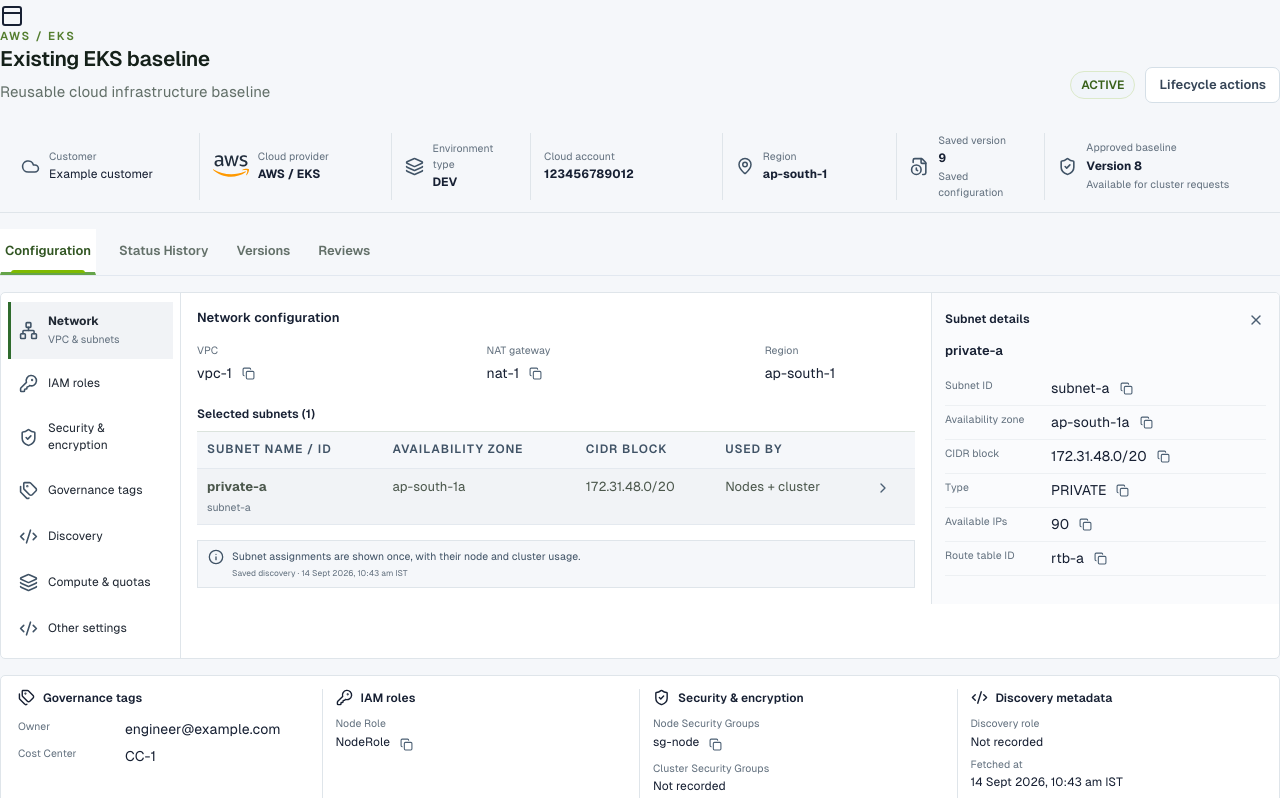
Test: Existing environment explorer › loads lifecycle history through the existing paginated endpoint and resets the page on tab change
expect the heading "Network configuration" is shown: met, box [197,310,340,325]
What coordinates should you click on to do the following:
click the button "Status History"
I would click on:
 (164, 252)
Its box is [114,229,213,275].
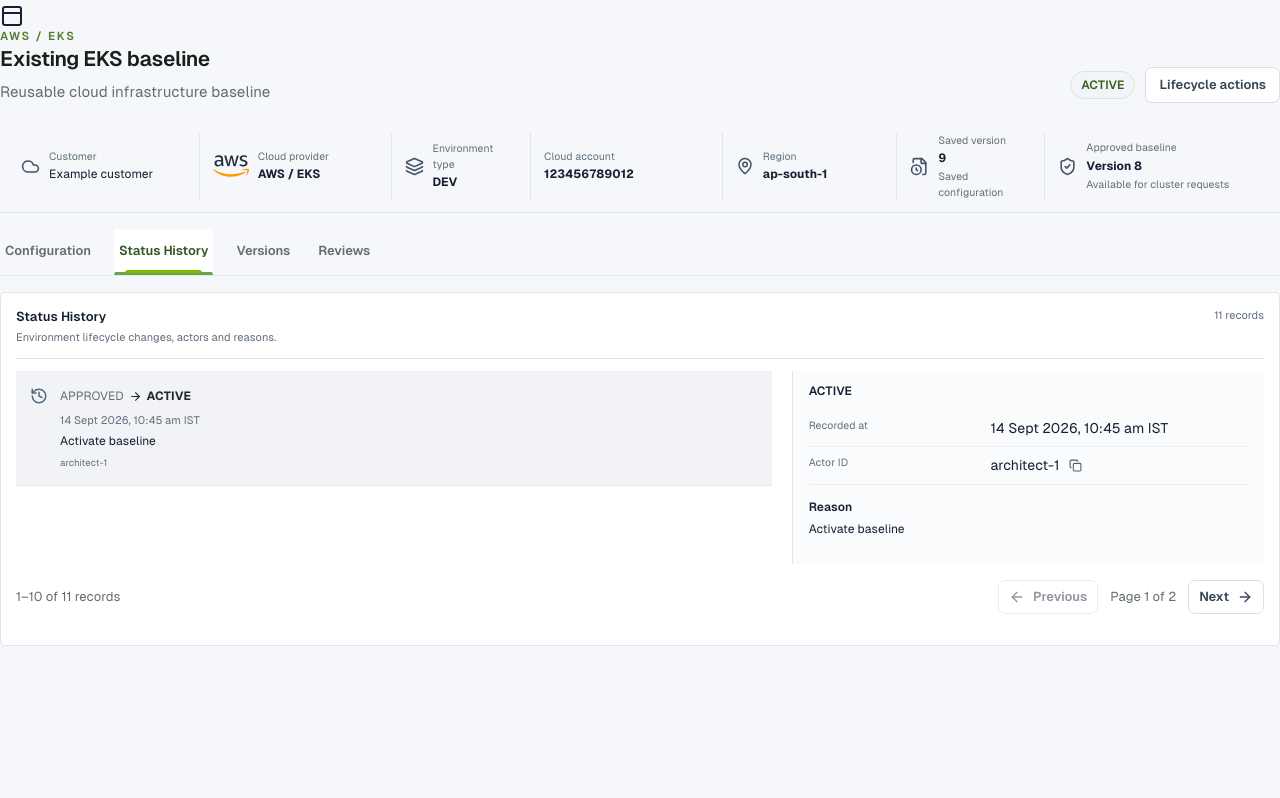
expect the list named "Status changes" is shown: met, box [16,371,772,486]
expect the text "Activate baseline" below "Actor ID" is shown: met, box [809,522,904,536]
What coordinates should you click on to do the following:
click the button with aria-label "Next page"
I would click on:
 (1226, 598)
Its box is [1188,580,1264,614].
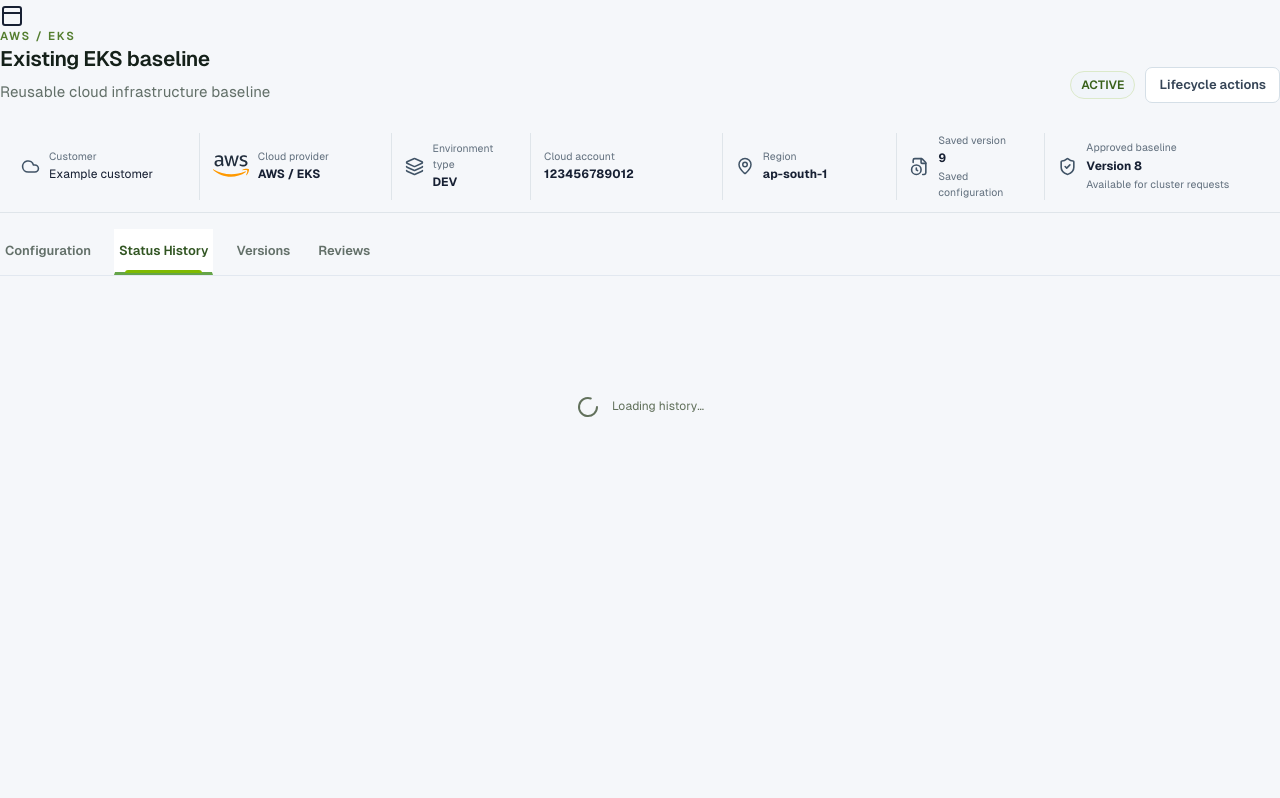
What coordinates should you click on to do the following:
click the button "Reviews"
I would click on:
 (344, 252)
Its box is [313,229,375,275].
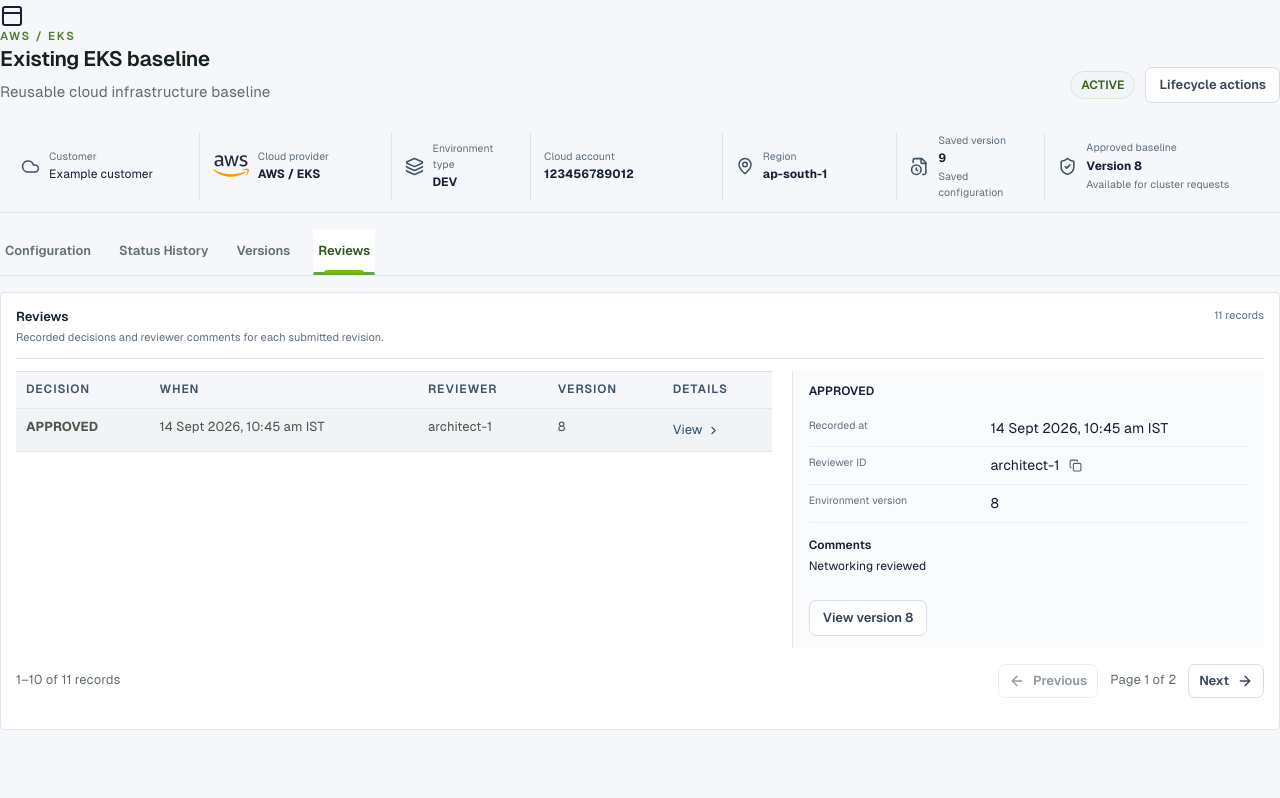
expect the text "Networking reviewed" is shown: met, box [809,559,926,573]
What coordinates should you click on to do the following:
click the button "View version 8"
I would click on:
 (868, 618)
Its box is [809,600,927,636].
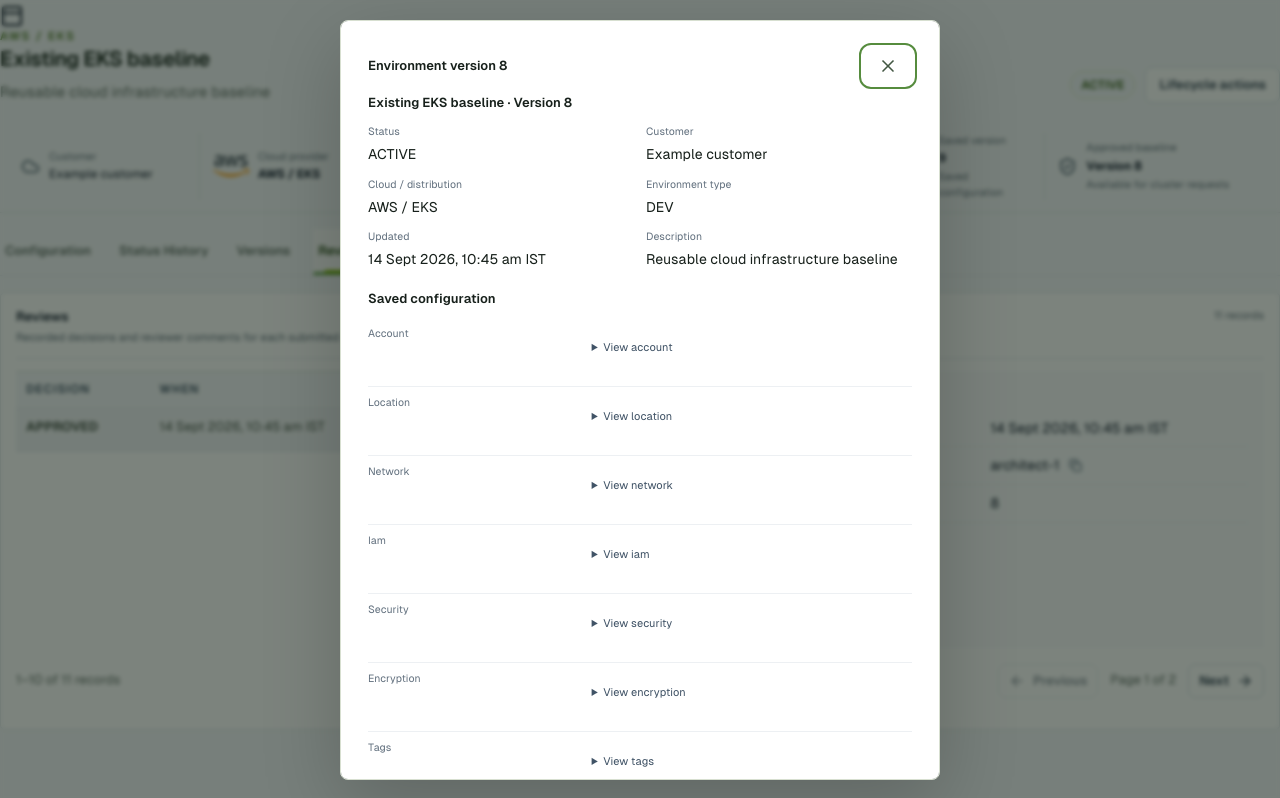
expect the dialog is shown: met, box [340,20,940,780]
